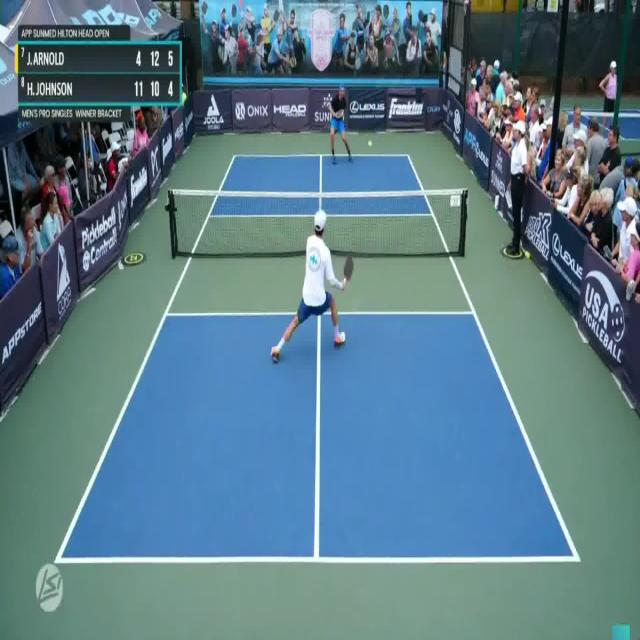Court: (54, 155, 578, 561)
ball: (366, 140, 376, 150)
